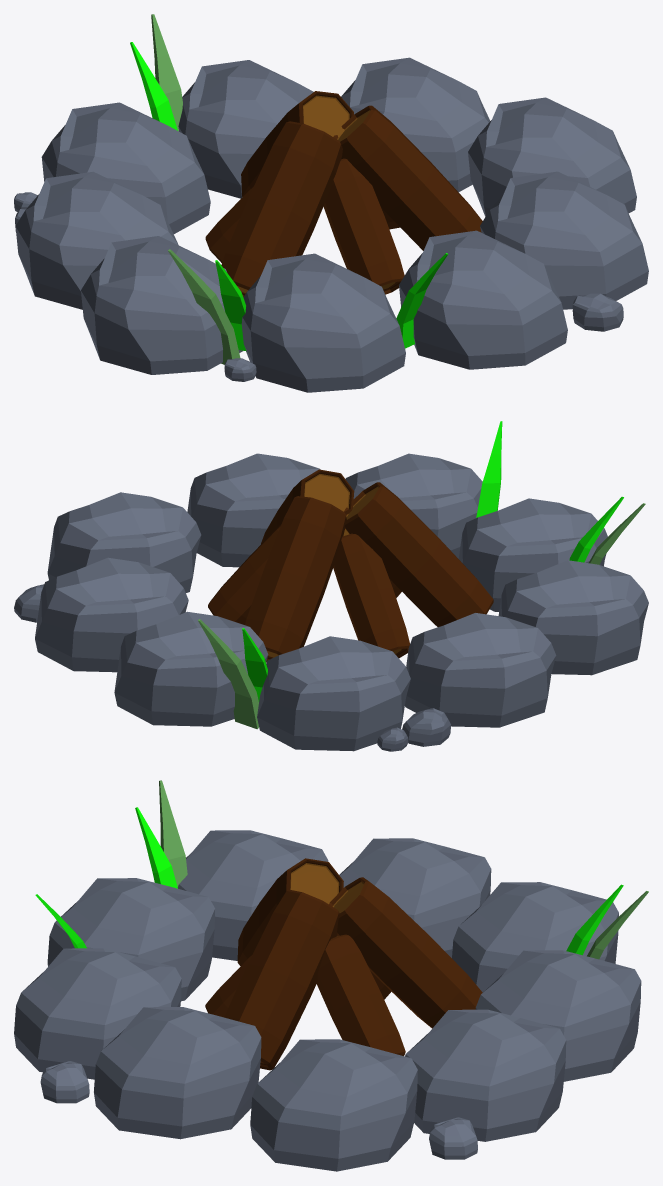
The model's file is Fireplace.fbx.
The picture shows the model from 3 angles, top to bottom: view 1: azimuth 30°, elevation 25°; view 2: azimuth 150°, elevation 25°; view 3: azimuth 270°, elevation 25°; orthographic projection. The views are drawn at different scales.
Visible parts, largest first — view 1: Cube.042; view 2: Cube.042; view 3: Cube.042.
Part boxes in pixels (box(x1,y1,x2,y2)): Cube.042: box(14, 14, 648, 392); Cube.042: box(14, 421, 648, 751); Cube.042: box(14, 780, 648, 1171).
Bounding box in the file's own units: 174 × 45.8 × 168.
